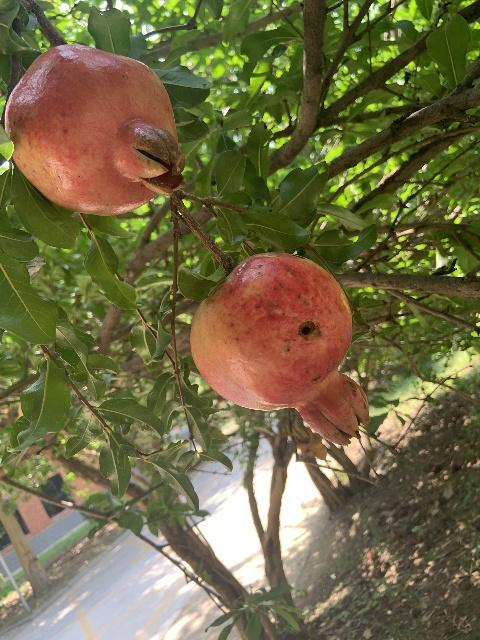ripe: (189, 252, 367, 445), (4, 44, 186, 214)
